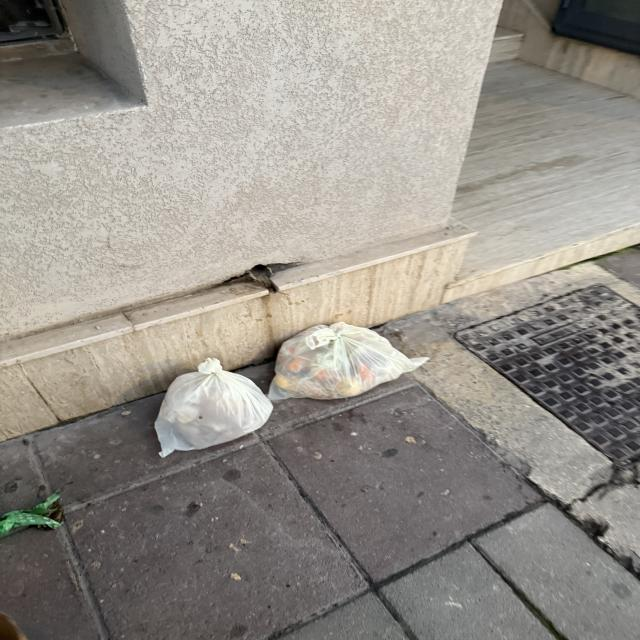Organic Waste -White Bags-: (157, 322, 430, 458)
